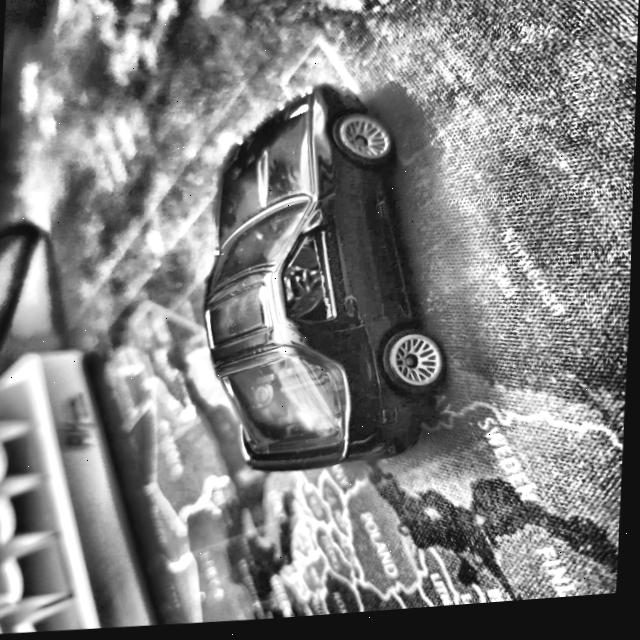car: (196, 81, 459, 483)
